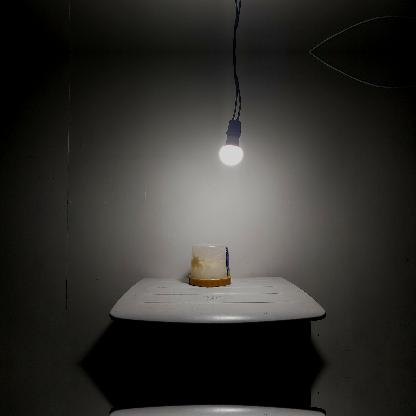Lady-s-Choice: (188, 239, 232, 287)
